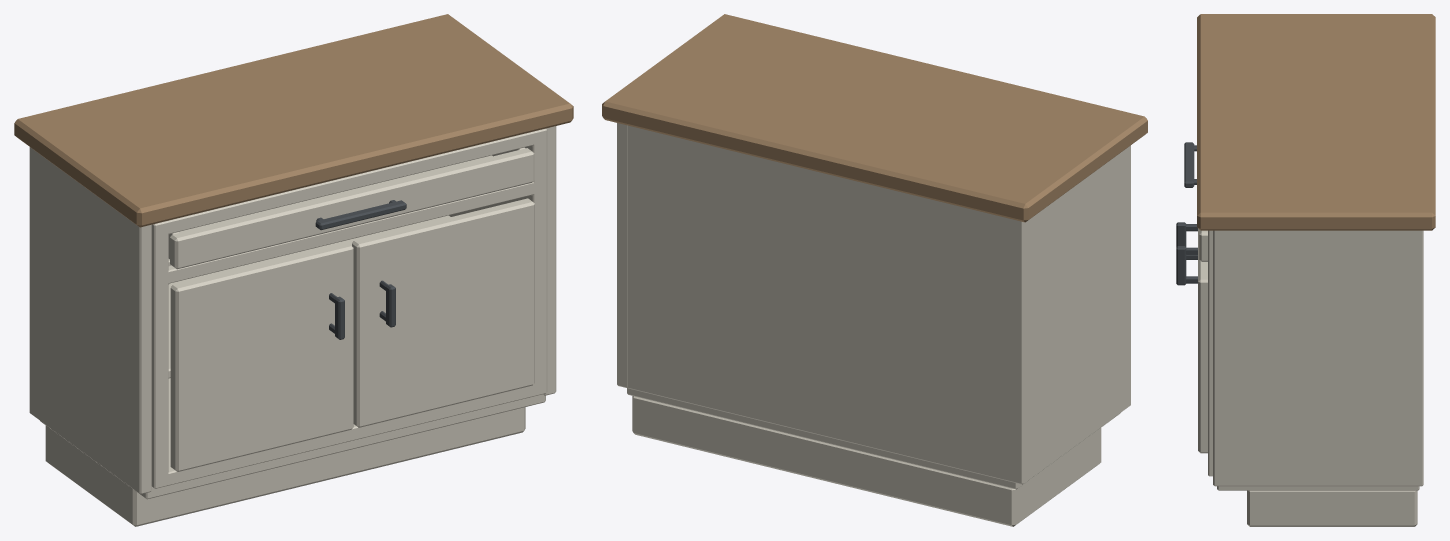
The picture shows the model from 3 angles, left to right: view 1: azimuth 30°, elevation 25°; view 2: azimuth 150°, elevation 25°; view 3: azimuth 270°, elevation 25°; orthographic projection. The views are drawn at different scales.
Visible parts, largest first — view 1: Countertop, Left door, Right door, Side wall, Continuous front frame, Recessed plinth, Drawer face, Cabinet floor, Side wall.001, Interior shelf, Drawer handle; view 2: Rear panel, Countertop, Side wall, Recessed plinth, Side wall.001, Cabinet floor; view 3: Side wall.001, Countertop, Recessed plinth, Right door, Continuous front frame, Cabinet floor, Drawer handle, Door handle.001.
Boxes of the visible parts, x1,y1,x2,y2 form: Countertop: (14, 14, 573, 227); Left door: (170, 242, 353, 471); Right door: (352, 198, 534, 427); Side wall: (29, 147, 151, 494); Continuous front frame: (151, 128, 547, 488); Recessed plinth: (45, 407, 525, 526); Drawer face: (170, 148, 534, 269); Cabinet floor: (40, 378, 545, 499); Side wall.001: (449, 126, 556, 395); Interior shelf: (168, 215, 450, 378); Drawer handle: (315, 200, 406, 230); Rear panel: (627, 125, 1011, 481); Countertop: (602, 14, 1147, 222); Side wall: (1012, 145, 1130, 484); Recessed plinth: (632, 396, 1101, 526); Side wall.001: (617, 123, 627, 388); Cabinet floor: (627, 388, 1120, 489); Side wall.001: (1213, 230, 1423, 486); Countertop: (1197, 14, 1435, 230); Recessed plinth: (1247, 490, 1417, 526); Right door: (1198, 228, 1207, 453); Continuous front frame: (1208, 230, 1212, 476); Cabinet floor: (1217, 486, 1419, 490); Drawer handle: (1184, 142, 1194, 187); Door handle.001: (1176, 246, 1186, 285).
Bounding box in the file's own units: 1.2 × 0.9 × 0.6525.
